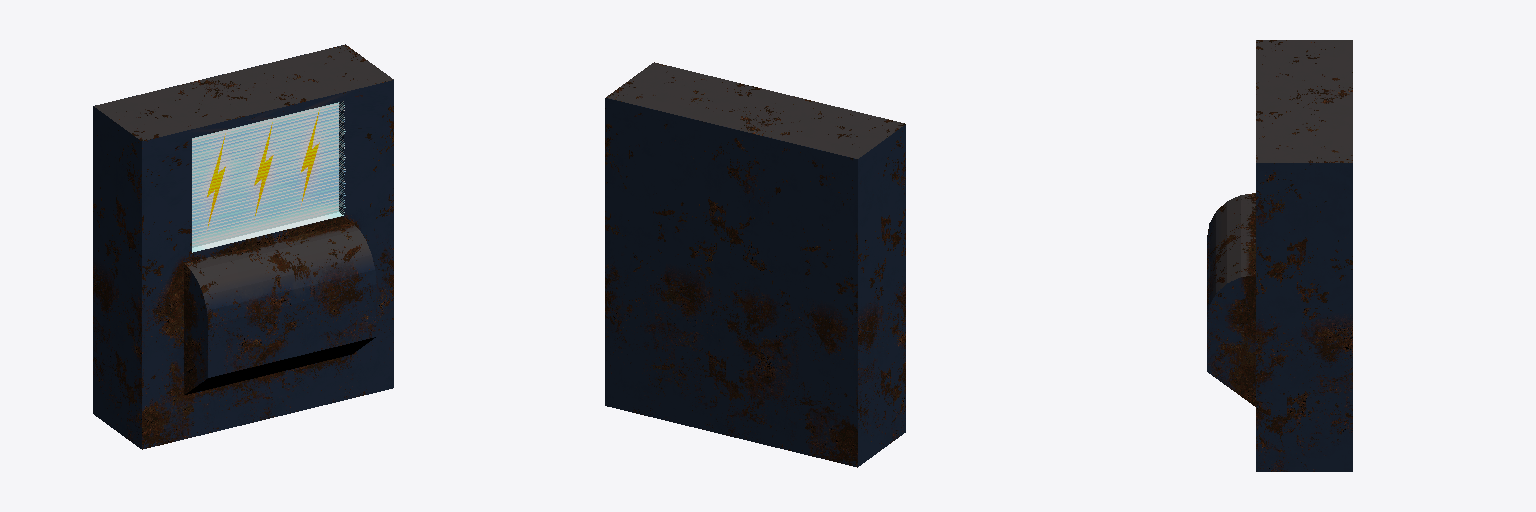
3 views of the same model, side by side, from view 1: azimuth 30°, elevation 25°; view 2: azimuth 150°, elevation 25°; view 3: azimuth 270°, elevation 25° (orthographic).
Parts seen in each view (by area): view 1: Cube.002_Cube.013_Cube.002_Cube.013; view 2: Cube.002_Cube.013_Cube.002_Cube.013; view 3: Cube.002_Cube.013_Cube.002_Cube.013.
Boxes of the visible parts, x1=… form: Cube.002_Cube.013_Cube.002_Cube.013: x1=93, y1=44, x2=393, y2=449; Cube.002_Cube.013_Cube.002_Cube.013: x1=605, y1=62, x2=905, y2=467; Cube.002_Cube.013_Cube.002_Cube.013: x1=1207, y1=40, x2=1352, y2=471.
Size of the model in its own units: 0.3 by 0.35 by 0.15.
1 materials, 1 textured.